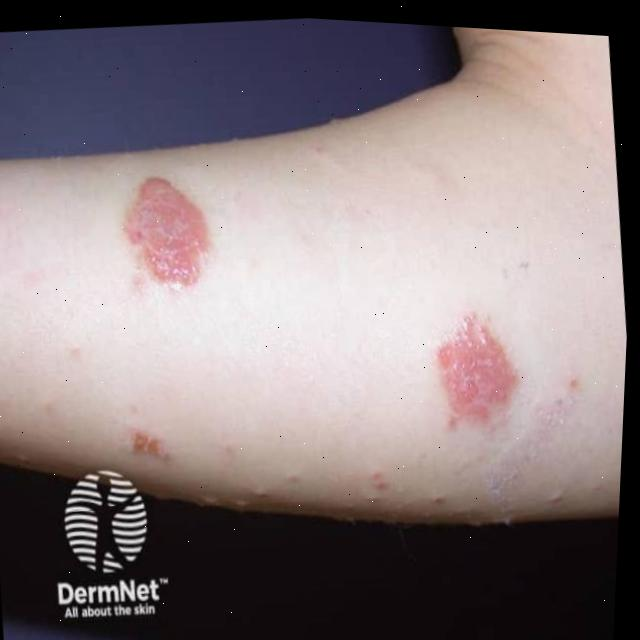Eczema: (126, 181, 216, 274), (451, 320, 506, 419)
